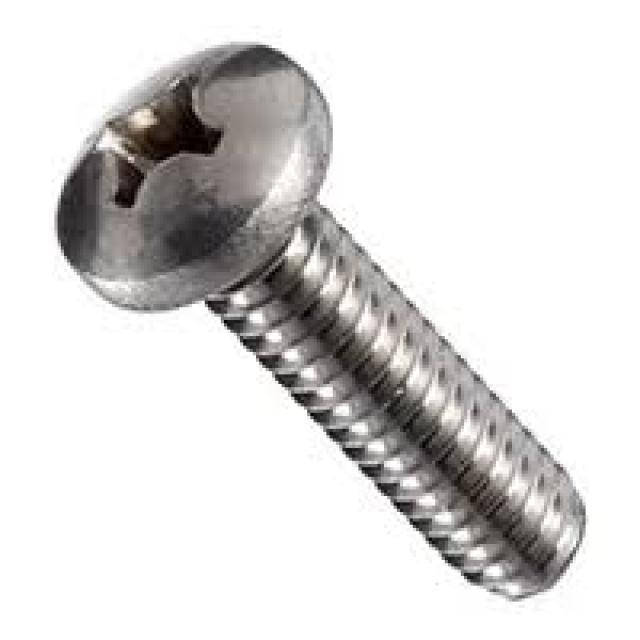Screw: (54, 45, 589, 605)
